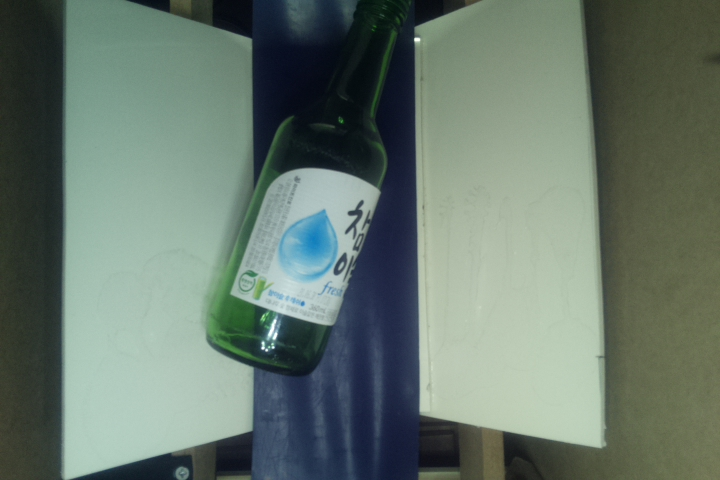soju: (205, 1, 422, 378)
